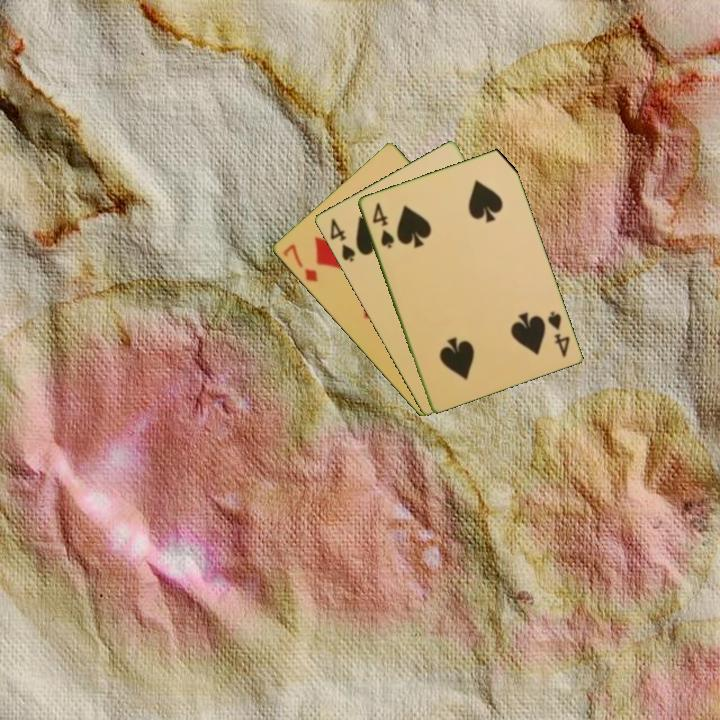4s: (326, 214, 358, 265), (368, 198, 397, 251), (544, 307, 572, 360)
7d: (279, 240, 320, 285)
